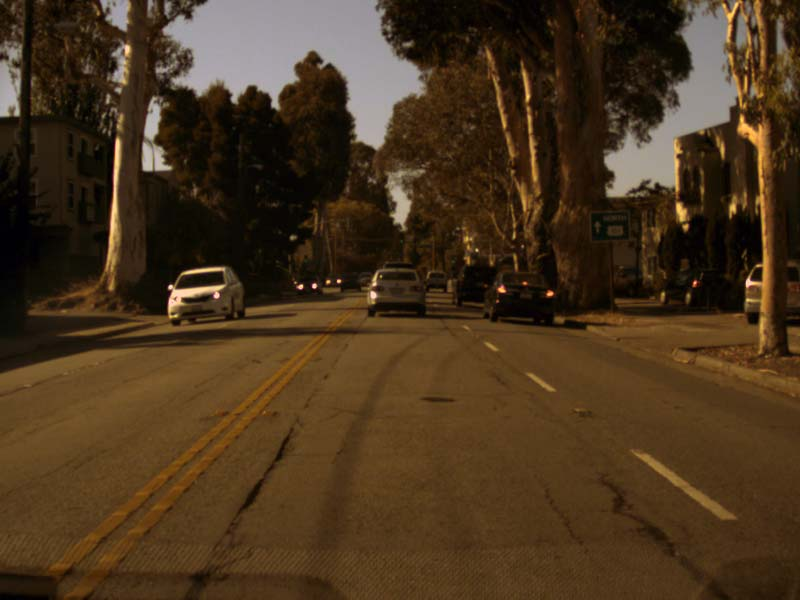Green: (398, 233, 403, 243), (303, 255, 307, 263), (450, 259, 454, 263)
